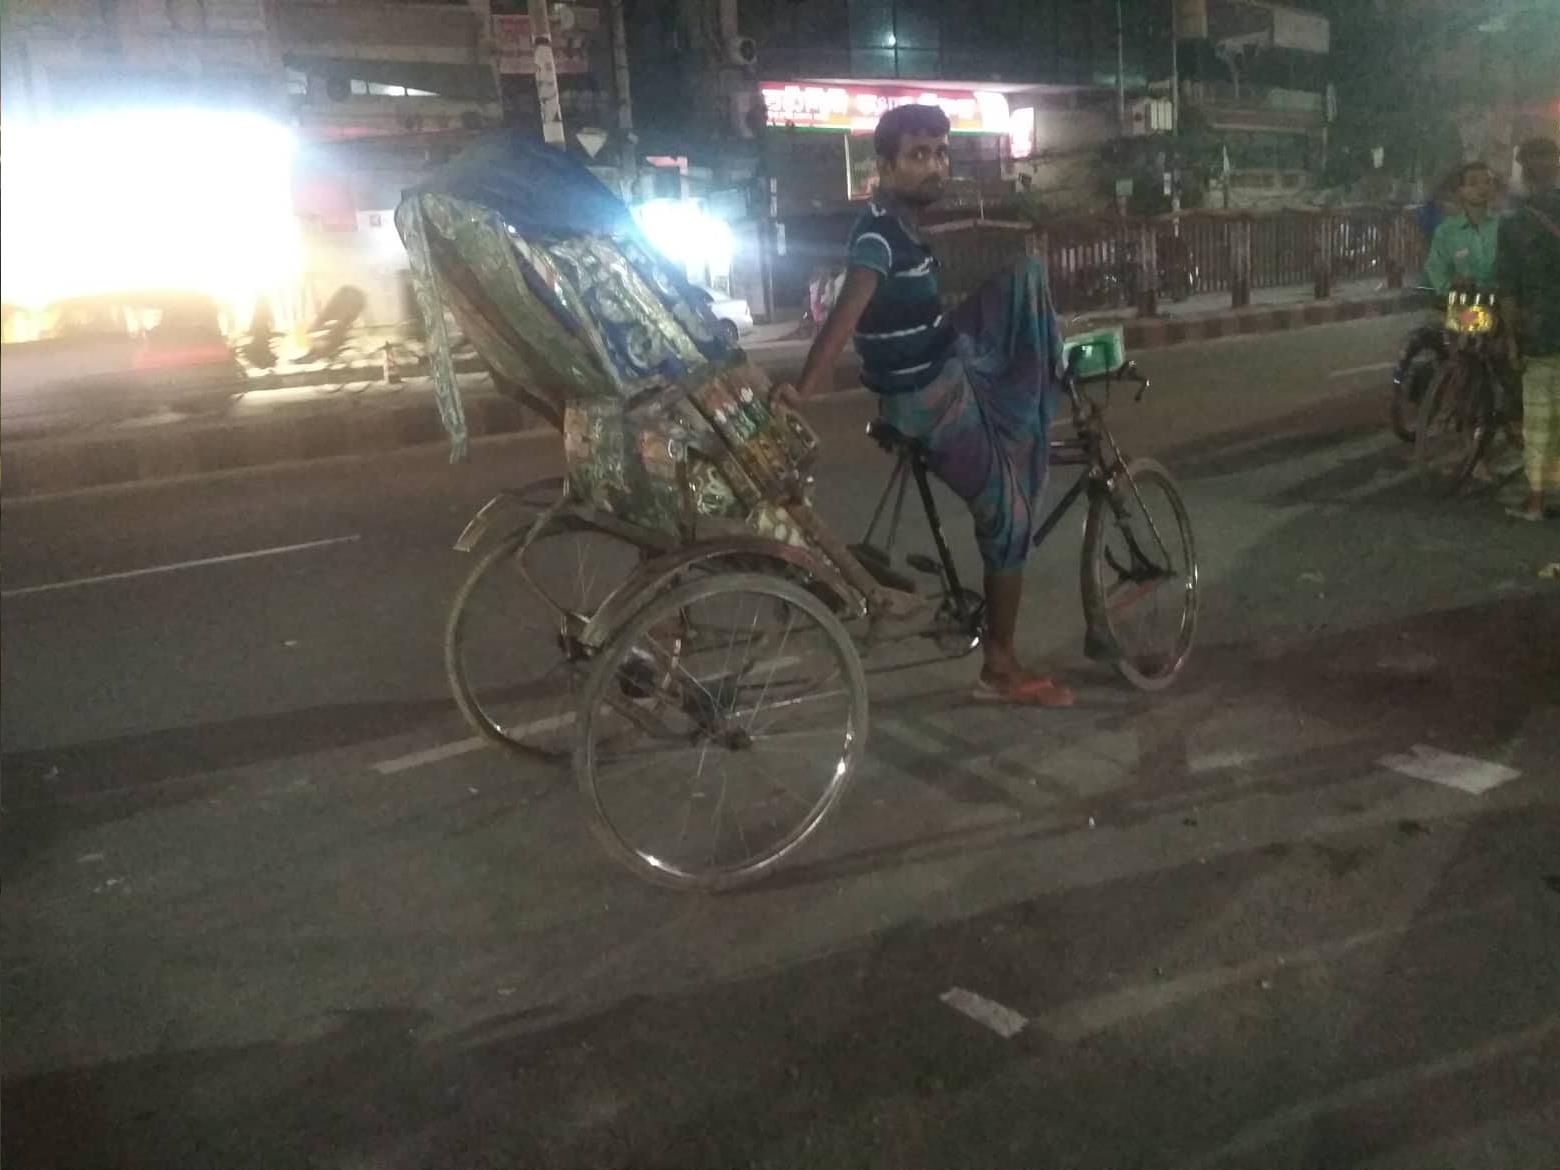Rickshaw: (384, 79, 1237, 945), (1375, 147, 1526, 510)
